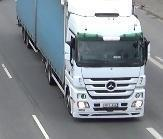Truck: (16, 0, 150, 120)
